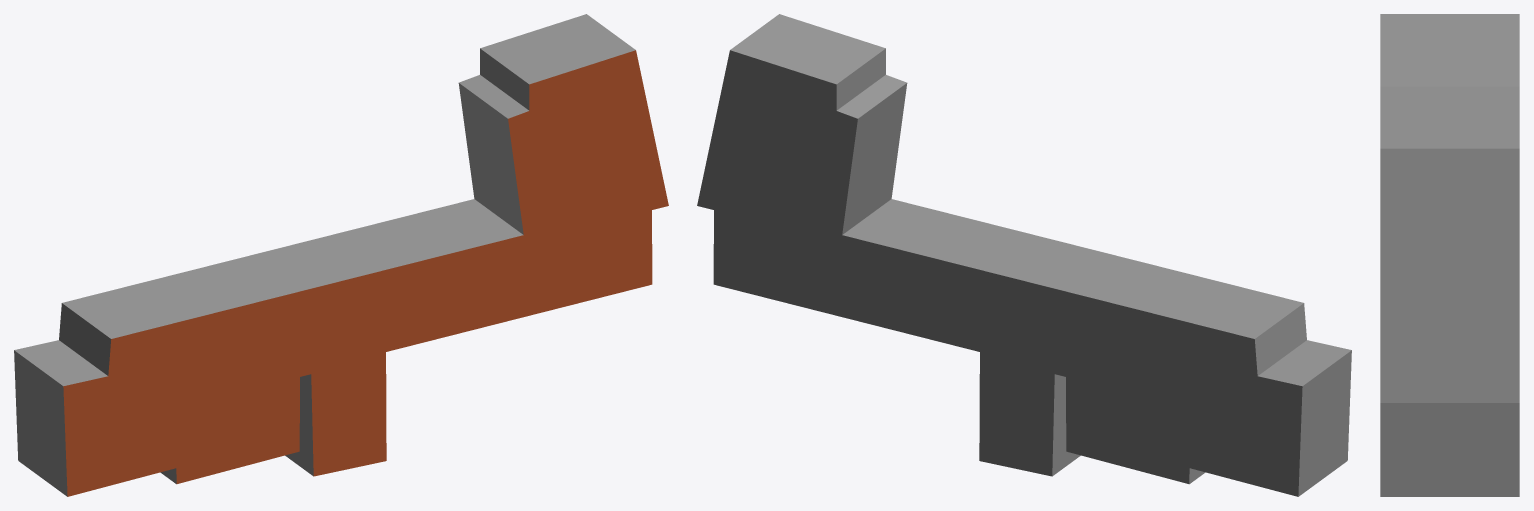
Rendered from construction_2953_assumed_A_Casa_h6m.obj.
The picture shows the model from 3 angles, left to right: view 1: azimuth 30°, elevation 25°; view 2: azimuth 150°, elevation 25°; view 3: azimuth 270°, elevation 25°; orthographic projection. The views are drawn at different scales.
Parts seen in each view (by area): view 1: construction_2953_assumed_A_Casa; view 2: construction_2953_assumed_A_Casa; view 3: construction_2953_assumed_A_Casa.
Boxes of the visible parts, box(x1,y1,x2,y2) form: construction_2953_assumed_A_Casa: box(14, 14, 668, 496); construction_2953_assumed_A_Casa: box(697, 14, 1351, 496); construction_2953_assumed_A_Casa: box(1380, 14, 1519, 496).
Bounding box in the file's own units: 42.47 × 23.46 × 6.
